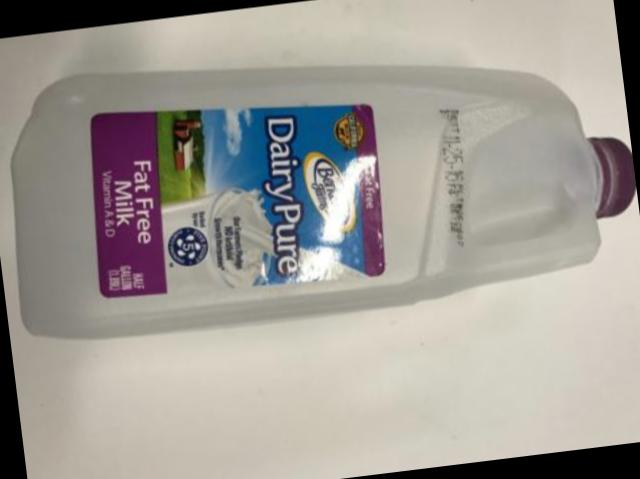plastic: (14, 68, 636, 338)
